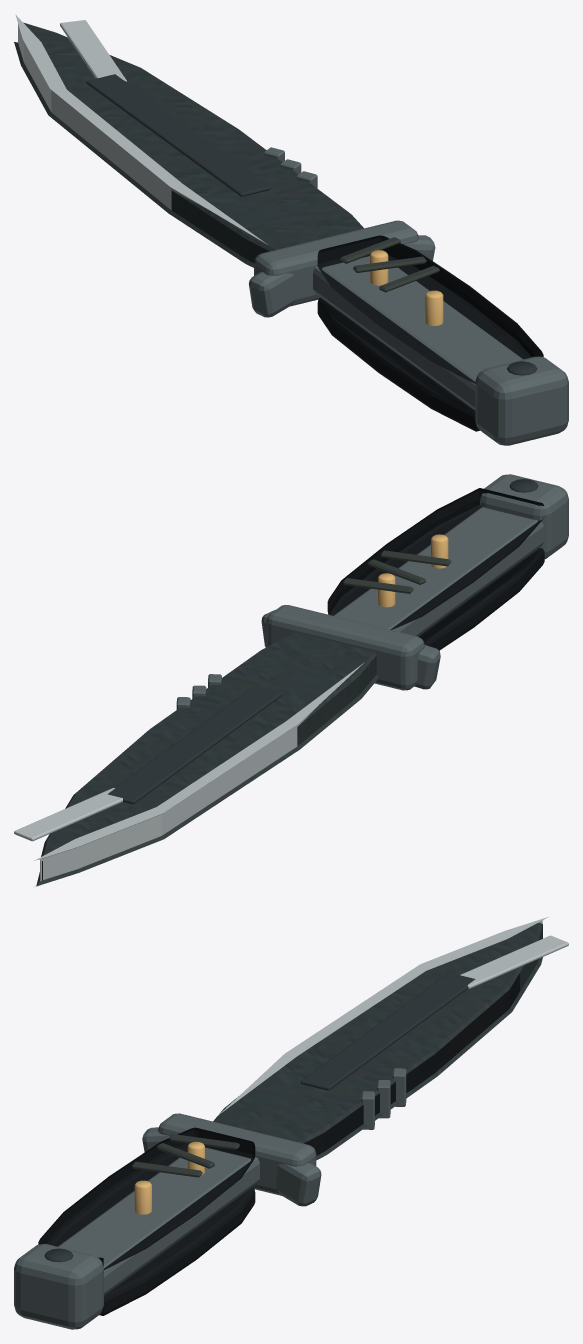
The model's file is pass65-field-knife-world-lod1.glb.
3 renders of one model, top to bottom at view 1: azimuth 30°, elevation 25°; view 2: azimuth 150°, elevation 25°; view 3: azimuth 330°, elevation 25°, orthographic. The views are drawn at different scales.
Visible parts, largest first — view 1: FieldKnife_Blade_world-lod1_Mesh, Cube_001.069, FieldKnife_HandleScale_1_001.002, field-knife-cutting-edge, Cube_001.079, field-knife-fuller, FieldKnife_HandleScale_-1_001.002, Cube_001.066, Cube_001.068, Cube_001.065, Cylinder_001.009, Cube_001.073; view 2: FieldKnife_Blade_world-lod1_Mesh, Cube_001.069, field-knife-cutting-edge, FieldKnife_HandleScale_1_001.002, Cube_001.066, field-knife-fuller, FieldKnife_HandleScale_-1_001.002, Cube_001.079, Cube_001.065, Cube_001.068, Cube_001.075, Cube_001.071; view 3: FieldKnife_Blade_world-lod1_Mesh, Cube_001.069, FieldKnife_HandleScale_1_001.002, Cube_001.079, field-knife-fuller, FieldKnife_HandleScale_-1_001.002, Cube_001.066, field-knife-cutting-edge, Cube_001.065, Cube_001.067, Cylinder_001.009, Cube_001.075 (+1 smaller).
Boxes of the visible parts, <box> form: FieldKnife_Blade_world-lod1_Mesh: <box>14,22,363,267</box>; Cube_001.069: <box>313,256,522,410</box>; FieldKnife_HandleScale_1_001.002: <box>317,235,543,383</box>; field-knife-cutting-edge: <box>15,14,267,244</box>; Cube_001.079: <box>475,356,568,445</box>; field-knife-fuller: <box>86,74,270,196</box>; FieldKnife_HandleScale_-1_001.002: <box>317,297,479,431</box>; Cube_001.066: <box>254,220,418,306</box>; Cube_001.068: <box>249,272,295,317</box>; Cube_001.065: <box>60,20,126,81</box>; Cylinder_001.009: <box>425,290,443,325</box>; Cube_001.073: <box>353,256,426,272</box>; FieldKnife_Blade_world-lod1_Mesh: <box>36,632,378,886</box>; Cube_001.069: <box>333,507,544,636</box>; field-knife-cutting-edge: <box>33,662,364,887</box>; FieldKnife_HandleScale_1_001.002: <box>327,488,544,629</box>; Cube_001.066: <box>266,605,424,690</box>; field-knife-fuller: <box>108,686,282,803</box>; FieldKnife_HandleScale_-1_001.002: <box>418,548,544,650</box>; Cube_001.079: <box>479,474,568,558</box>; Cube_001.065: <box>14,788,122,841</box>; Cube_001.068: <box>414,645,440,689</box>; Cube_001.075: <box>380,550,451,566</box>; Cube_001.071: <box>343,578,413,593</box>; FieldKnife_Blade_world-lod1_Mesh: <box>213,922,542,1160</box>; Cube_001.069: <box>58,1147,259,1295</box>; FieldKnife_HandleScale_1_001.002: <box>38,1127,255,1269</box>; Cube_001.079: <box>14,1244,103,1329</box>; field-knife-fuller: <box>300,972,475,1090</box>; FieldKnife_HandleScale_-1_001.002: <box>99,1187,255,1315</box>; Cube_001.066: <box>158,1113,316,1195</box>; field-knife-cutting-edge: <box>218,916,549,1115</box>; Cube_001.065: <box>460,935,568,988</box>; Cube_001.067: <box>276,1163,321,1206</box>; Cylinder_001.009: <box>134,1180,151,1214</box>; Cube_001.075: <box>131,1161,202,1177</box>.
Size of the model in its own units: 0.4161 by 0.19 by 2.09.
Materials: 7 (2 with a texture image).
